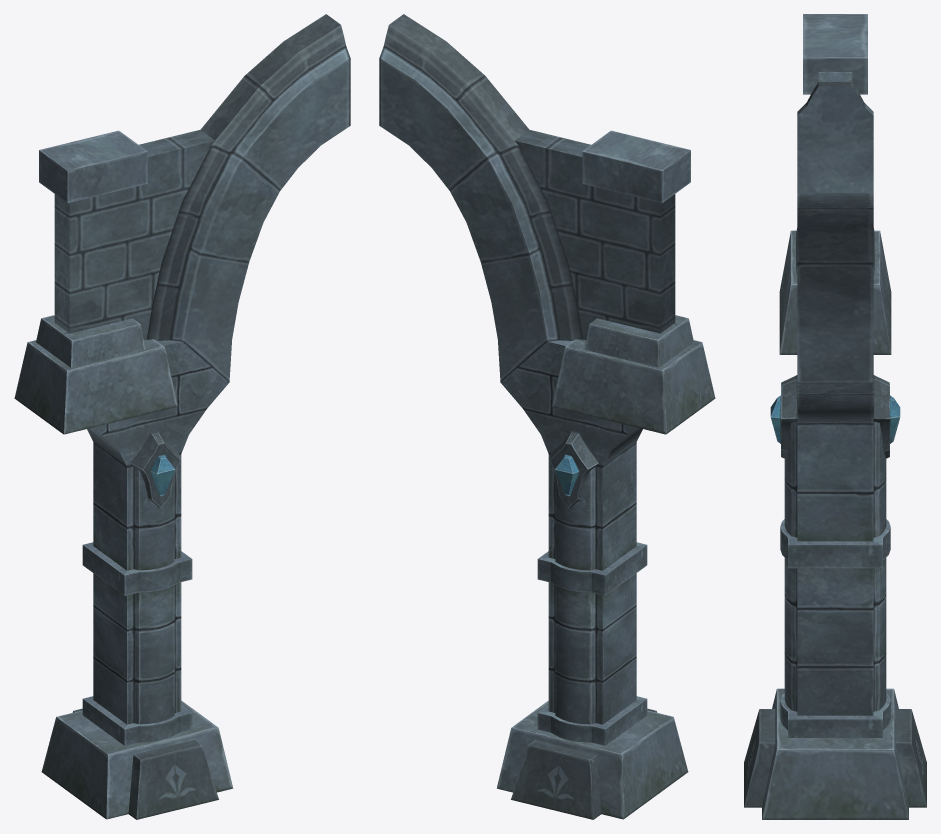
Rendered from pillar2.fbx.
3 renders of one model, left to right at view 1: azimuth 30°, elevation 25°; view 2: azimuth 150°, elevation 25°; view 3: azimuth 270°, elevation 25°, orthographic. The views are drawn at different scales.
Parts seen in each view (by area): view 1: polySurface1287; view 2: polySurface1287; view 3: polySurface1287.
Boxes of the visible parts, bbox=[...] form: polySurface1287: bbox=[14, 14, 350, 819]; polySurface1287: bbox=[379, 14, 715, 819]; polySurface1287: bbox=[744, 14, 926, 819].
Size of the model in its own units: 2.37 by 5.48 by 1.12.
